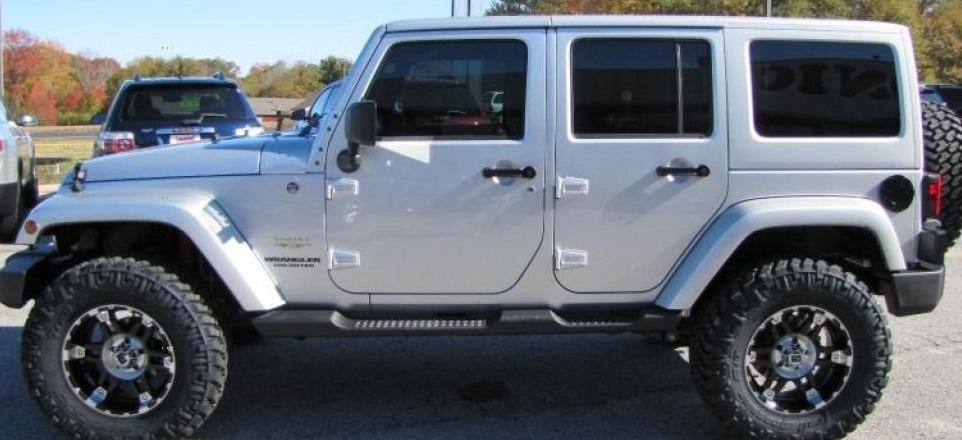SUV: (1, 16, 962, 437)
